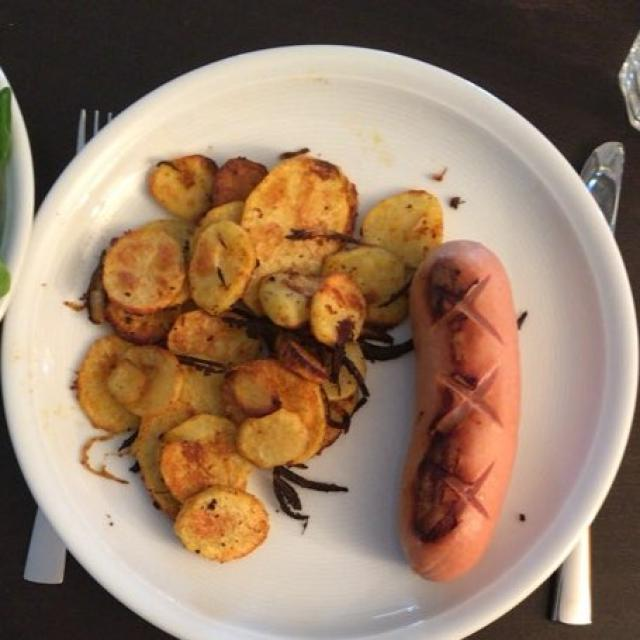cervelat: (404, 243, 518, 569)
country-fries: (79, 155, 442, 552)
